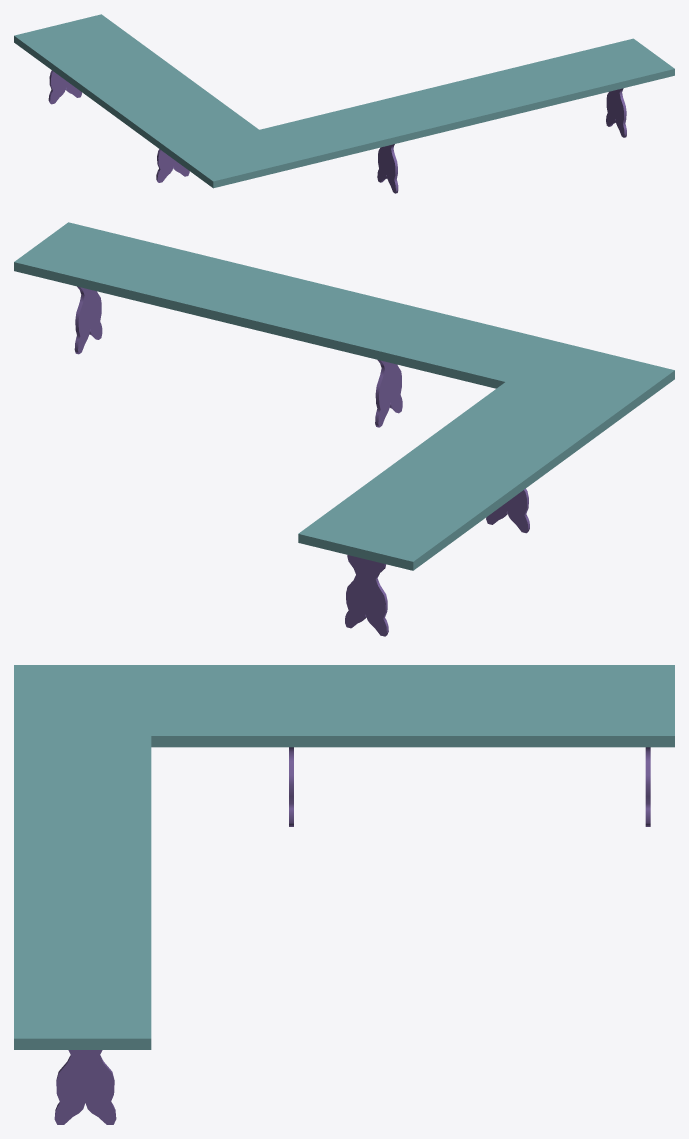
File: bench_high.fbx
3 views of the same model, one above another, from view 1: azimuth 30°, elevation 25°; view 2: azimuth 150°, elevation 25°; view 3: azimuth 270°, elevation 25° (orthographic). The views are drawn at different scales.
Parts seen in each view (by area): view 1: benchPlank_high, benchLeg_high; view 2: benchPlank_high, benchLeg_high; view 3: benchPlank_high, benchLeg_high.
Boxes of the visible parts, x1=… form: benchPlank_high: x1=14, y1=14, x2=674, y2=188; benchLeg_high: x1=48, y1=70, x2=626, y2=193; benchPlank_high: x1=14, y1=222, x2=674, y2=570; benchLeg_high: x1=74, y1=286, x2=529, y2=636; benchPlank_high: x1=14, y1=665, x2=674, y2=1049; benchLeg_high: x1=54, y1=747, x2=650, y2=1124.
Bounding box in the file's own units: 17.35 × 2.49 × 12.97.
